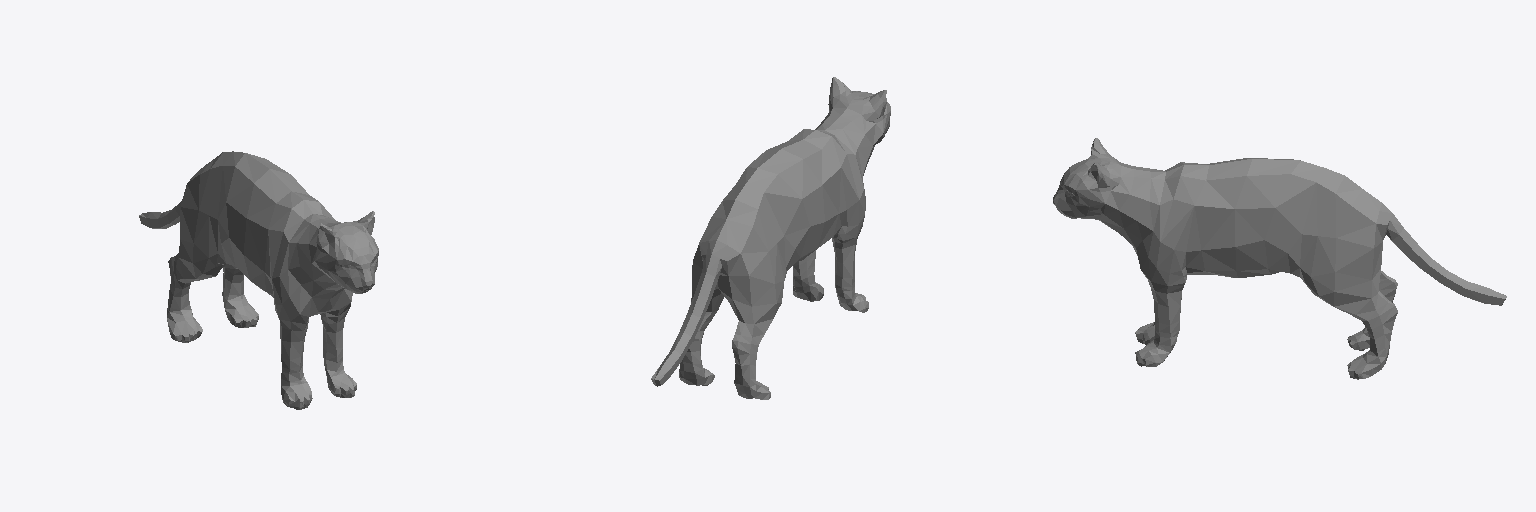
File: cat.obj
The picture shows the model from 3 angles: view 1: azimuth 30°, elevation 25°; view 2: azimuth 150°, elevation 25°; view 3: azimuth 270°, elevation 25°; orthographic projection.
Parts seen in each view (by area): view 1: cat01; view 2: cat01; view 3: cat01.
Boxes of the visible parts, <box> form: cat01: <box>139,151,378,409</box>; cat01: <box>651,77,890,399</box>; cat01: <box>1053,138,1506,379</box>.
Size of the model in its own units: 12.43 by 29.46 by 57.52.